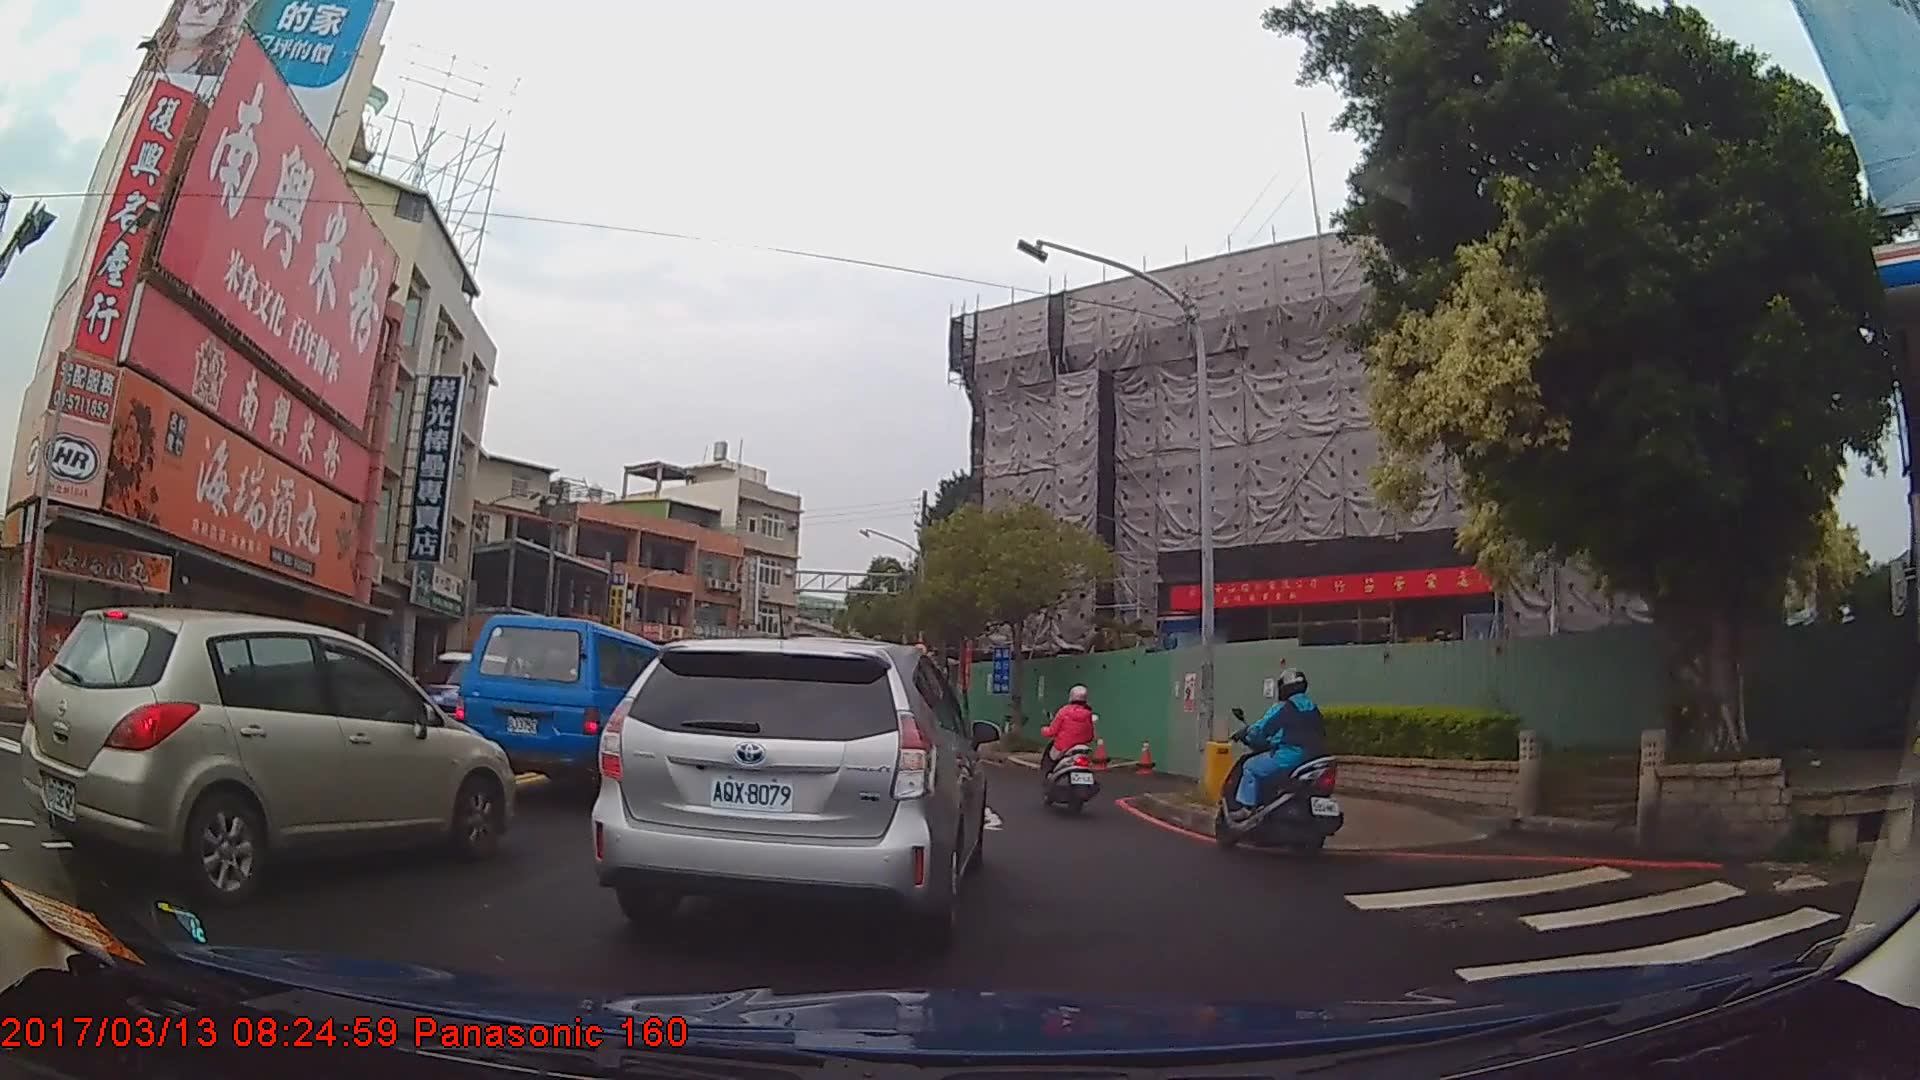rider: (1210, 668, 1341, 854), (1041, 682, 1098, 806)
vehicle: (13, 603, 513, 907), (584, 629, 986, 945), (455, 612, 680, 803), (397, 646, 535, 766)
